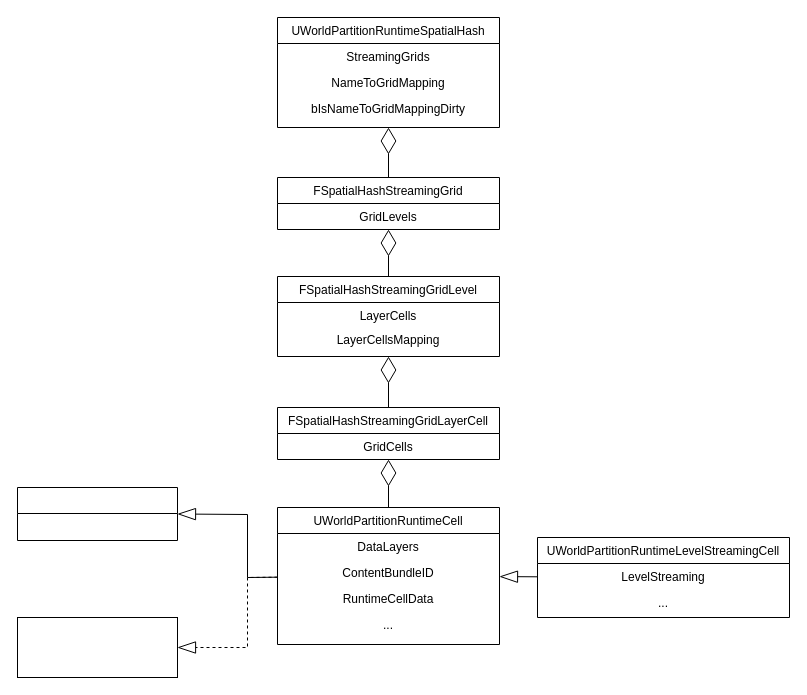
Image size: 807x695. Some labels were removed from this diagram. Each missing label, with the centre of its shape:
"<<Interface>> IWorldPartitionCell" goes at pixel 97 647.
"UObject" goes at pixel 97 513.
